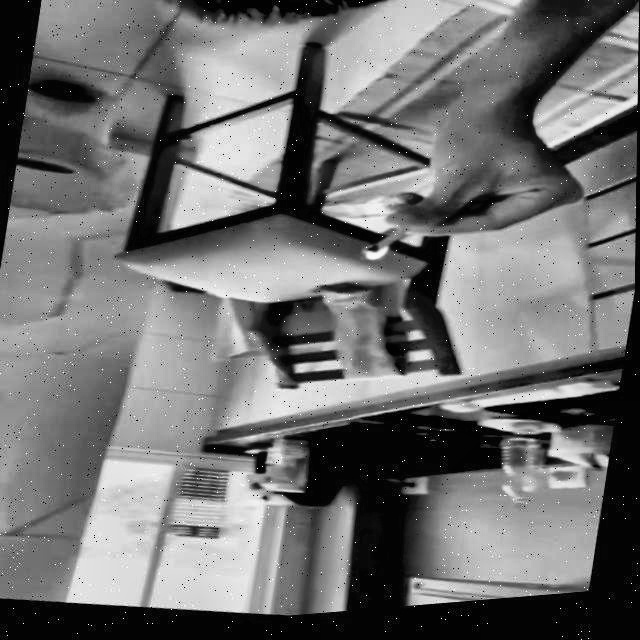Fire: (358, 241, 392, 275)
